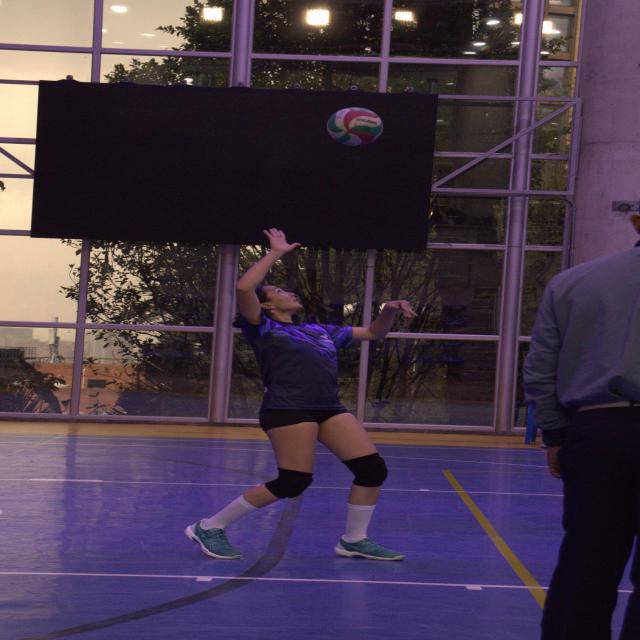volleyball: (326, 108, 382, 146)
